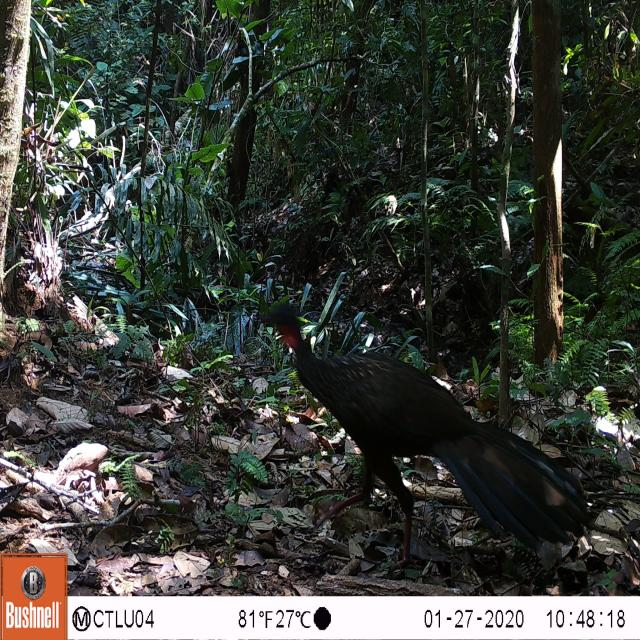Spixs Guan: (245, 295, 590, 564)
